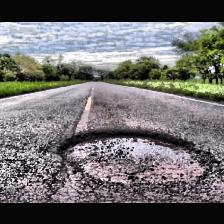pothole: (56, 128, 220, 192)
